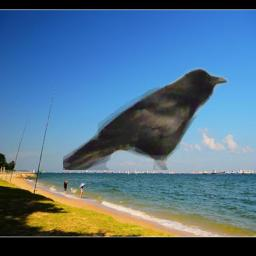Crow: (63, 67, 229, 170)
